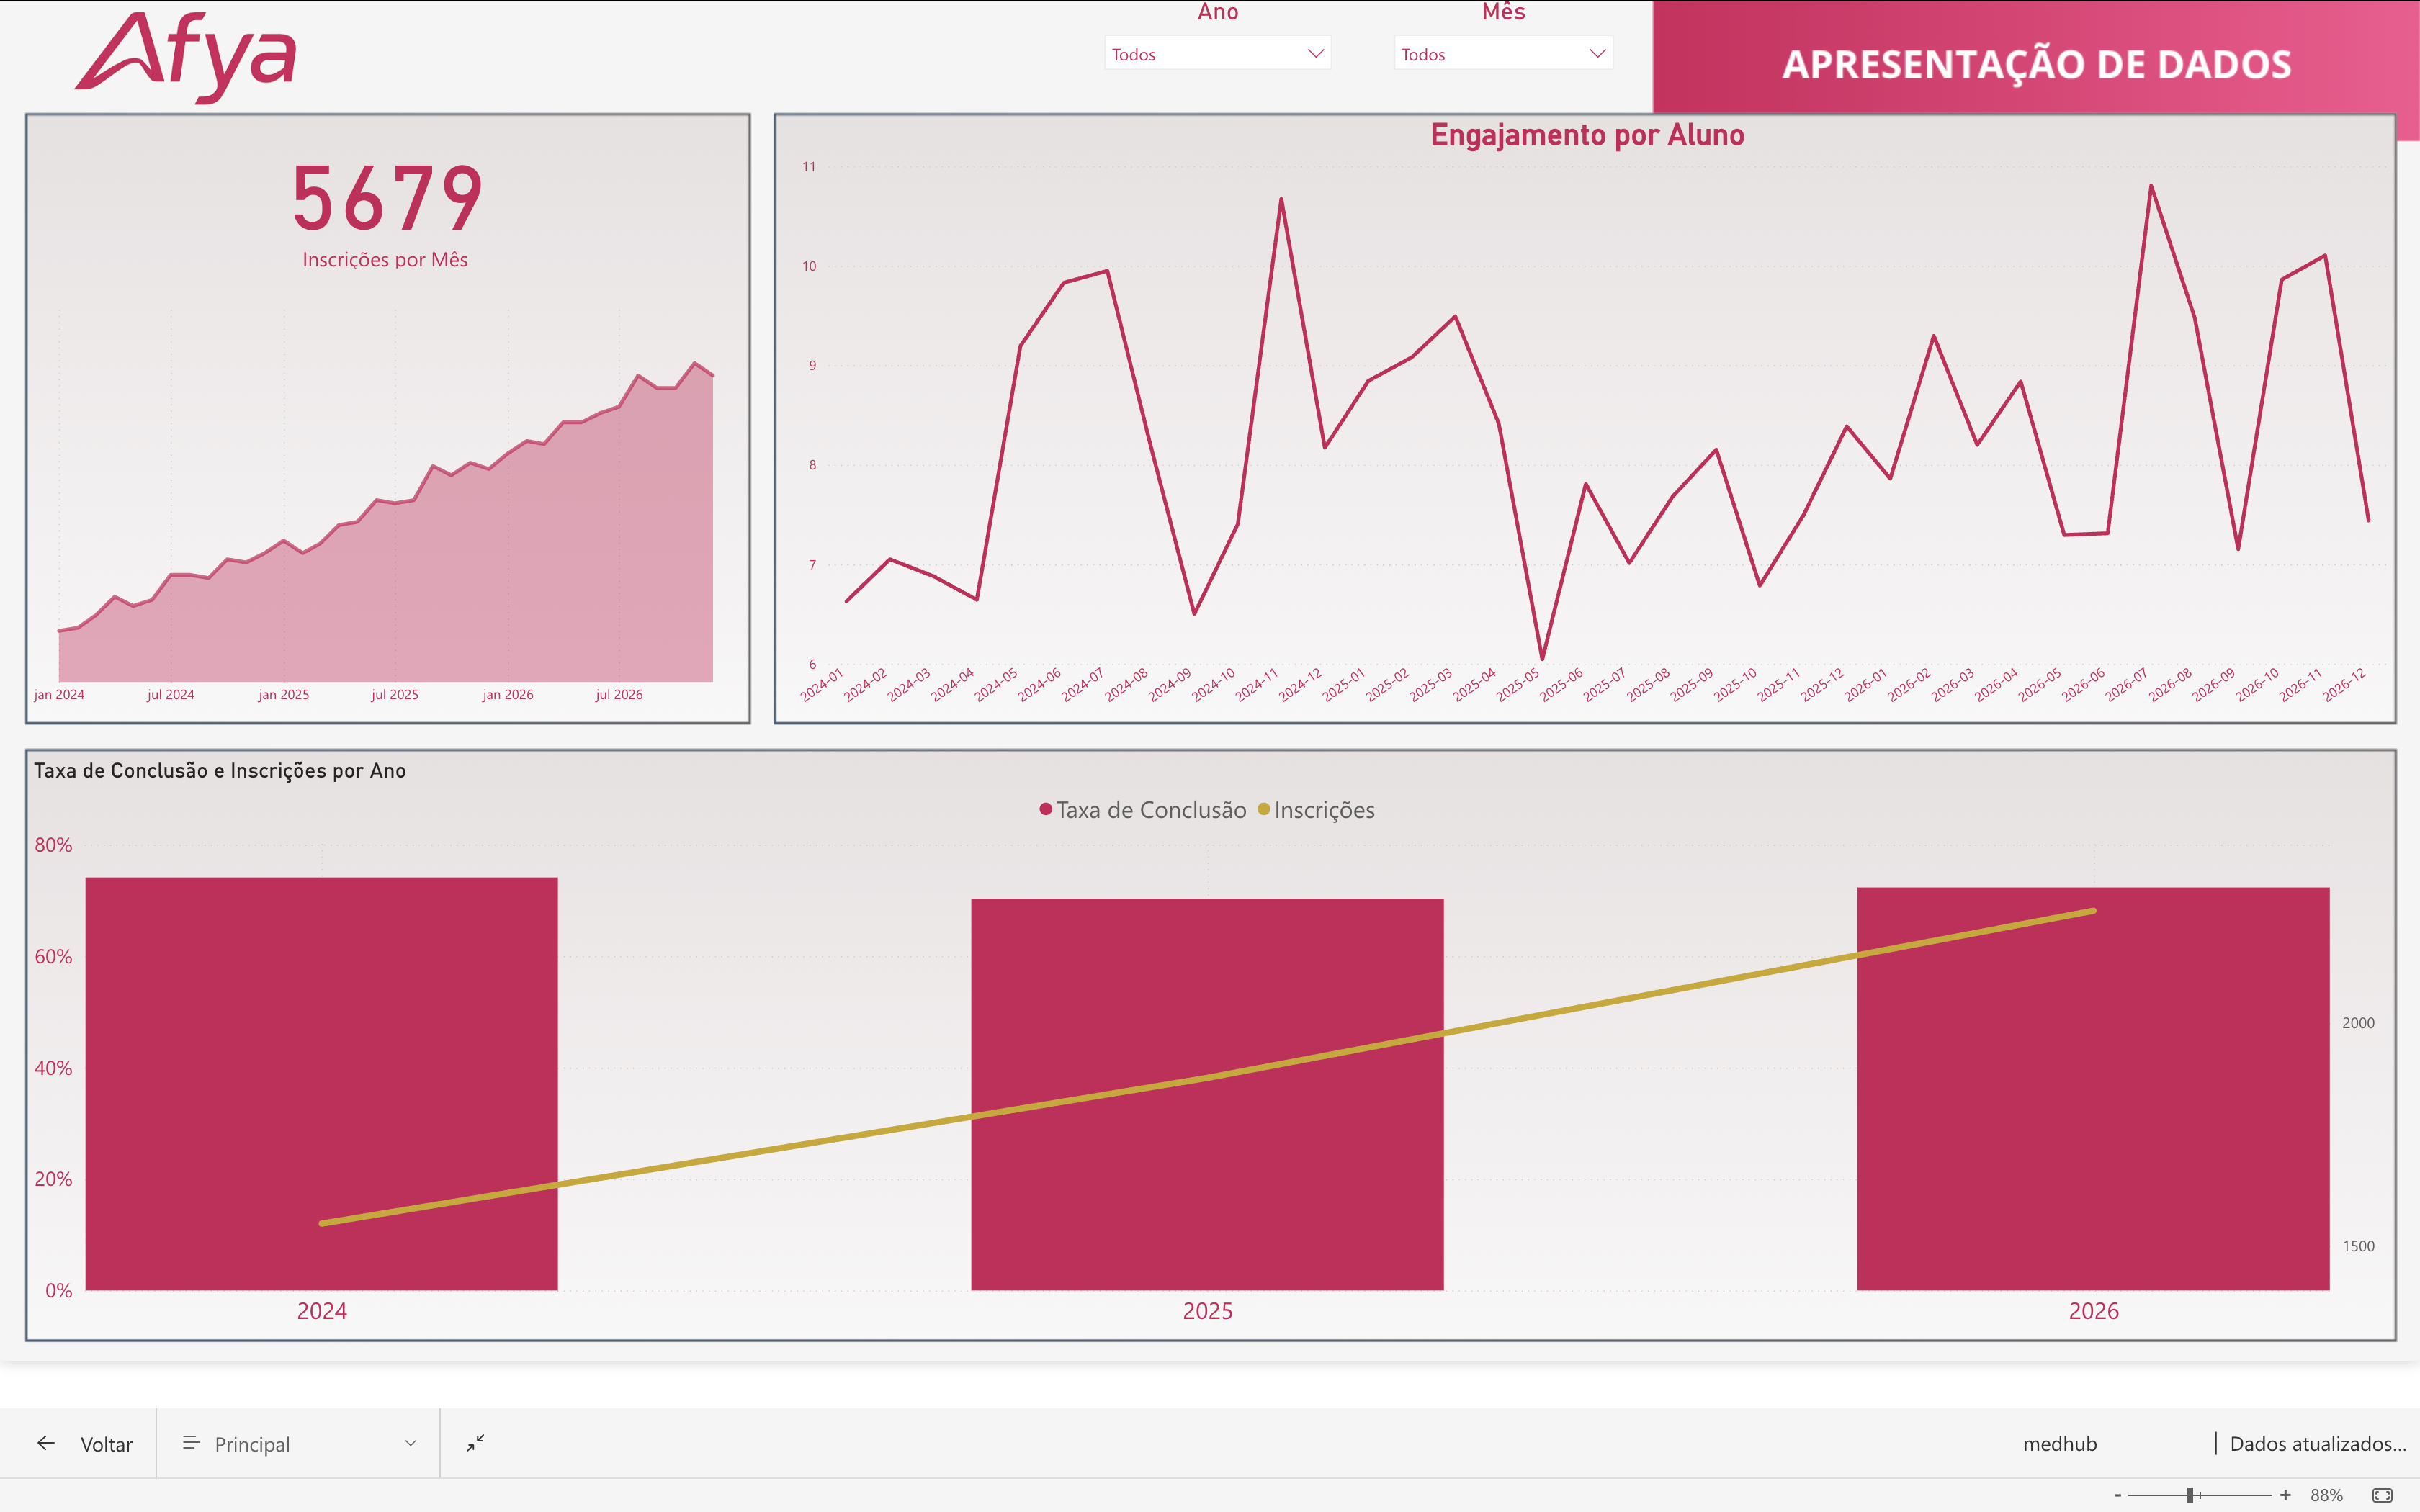

Layout of this report page (visuals, bound fields, positions):
{"tool":"powerbi","page":{"name":"Principal","canvas":[1920,1080],"ordinal":0},"visuals":[{"type":"slicer","title":"Ano","fields":{"Values":["Dashboard.Ano"]},"box":[865.9,0,200.6,83.3],"z":0},{"type":"slicer","title":"Mês","fields":{"Values":["Dashboard.Mes"]},"box":[1095.8,0,194.5,83.3],"z":1000},{"type":"card","fields":{"Values":["Medidas.InscricoesMes"]},"box":[21.6,95.7,568,121.9],"z":2000},{"type":"areaChart","fields":{"Y":["Medidas.InscricoesMes"],"Category":["Dashboard.ano_mes.Variation.Hierarquia de datas.Ano","Dashboard.ano_mes.Variation.Hierarquia de datas.Trimestre","Dashboard.ano_mes.Variation.Hierarquia de datas.Mês","Dashboard.ano_mes.Variation.Hierarquia de datas.Dia"]},"box":[21.6,230,568,339.5],"z":3000},{"type":"lineClusteredColumnComboChart","fields":{"Category":["Dashboard.ano_mes.Variation.Hierarquia de datas.Ano","Dashboard.ano_mes.Variation.Hierarquia de datas.Trimestre","Dashboard.ano_mes.Variation.Hierarquia de datas.Mês","Dashboard.ano_mes.Variation.Hierarquia de datas.Dia"],"Y":["Medidas.TaxaConclusao"],"Y2":["Medidas.InscricoesMes"]},"box":[21.6,603.5,1876.8,459.9],"z":4000},{"type":"lineChart","title":"Engajamento por Aluno","fields":{"Y":["Medidas.EngajamentoPorAluno"],"Category":["Dashboard.ano_mes"]},"box":[622,95.7,1276.4,473.8],"z":5000},{"type":"image","box":[21.6,4.6,250,83.3],"z":5001}]}

Visuals, with their boxes on the page's 1920x1080 design canvas (x1, y1, x2, y2). These are canvas units, not pixel positions in the 2420x1512 screenshot, which may show the page scaled, cropped or inside an application window:
"Ano" slicer: [left=866, top=0, right=1066, bottom=83]
"Mês" slicer: [left=1096, top=0, right=1290, bottom=83]
card - Medidas.InscricoesMes: [left=22, top=96, right=590, bottom=218]
areaChart - Medidas.InscricoesMes x Dashboard.ano_mes.Variation.Hierarquia de datas.Ano: [left=22, top=230, right=590, bottom=570]
lineClusteredColumnComboChart - Dashboard.ano_mes.Variation.Hierarquia de datas.Ano x Dashboard.ano_mes.Variation.Hierarquia de datas.Trimestre: [left=22, top=604, right=1898, bottom=1063]
"Engajamento por Aluno" lineChart: [left=622, top=96, right=1898, bottom=570]
image: [left=22, top=5, right=272, bottom=88]
